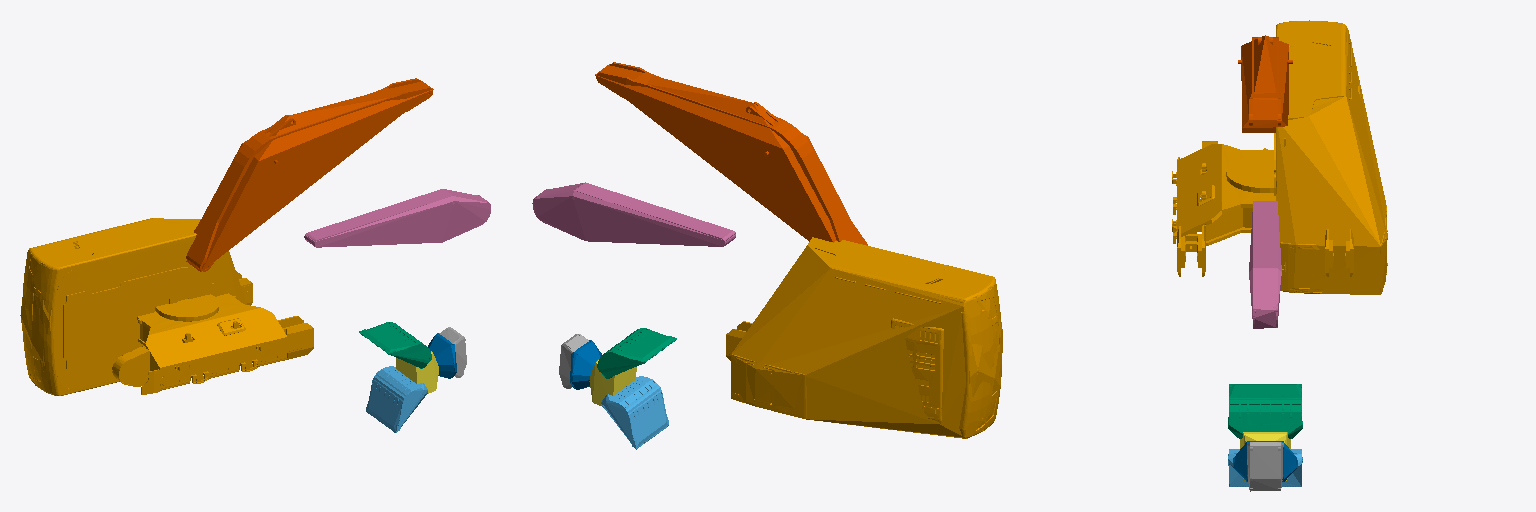
URDF robot description (excavator_urdf_ros2_ready):
<?xml version="1.0" encoding="UTF-8"?>
<robot name="excavator_urdf_ros2_ready">
  <joint name="gripper_to_tool" type="fixed">
    <origin xyz="0.047 -0. -0.019" rpy="0. 0. 0."/>
    <parent link="tool_body"/>
    <child link="gripper_mount"/>
  </joint>
  <joint name="revolute_carriage" type="revolute">
    <origin xyz="0. 0. 0." rpy="0. 0. 0."/>
    <parent link="excavator"/>
    <child link="upper_carriage"/>
    <axis xyz="0. 0. 1."/>
    <limit lower="-8.0285146" upper="8.0285146" effort="10000000." velocity="17453.2925199"/>
  </joint>
  <joint name="revolute_claw_1" type="revolute">
    <origin xyz="0. 0.025 -0.038" rpy="0. 0. -0."/>
    <parent link="gripper_frame"/>
    <child link="gripper_claw_1"/>
    <axis xyz="1. 0. 0."/>
    <limit lower="0." upper="0.8726646" effort="10000000." velocity="17453.2925199"/>
  </joint>
  <joint name="revolute_claw_2" type="revolute">
    <origin xyz="0. -0.025 -0.038" rpy="-0.0000005 0.0000001 0.0000001"/>
    <parent link="gripper_frame"/>
    <child link="gripper_claw_2"/>
    <axis xyz="1. 0. 0."/>
    <limit lower="-0.8726646" upper="0." effort="10000000." velocity="17453.2925199"/>
  </joint>
  <joint name="revolute_gripper" type="continuous">
    <origin xyz="-0.0105 0. -0.025 " rpy="0.0000004 -0. -1.5707964"/>
    <parent link="gripper_mount"/>
    <child link="gripper_frame"/>
    <axis xyz="0. 0. 1."/>
  </joint>
  <joint name="revolute_lift" type="revolute">
    <origin xyz="0.0165 0. 0.0785" rpy="0. -0.455181869 0."/>
    <parent link="upper_carriage"/>
    <child link="lift_boom"/>
    <axis xyz="0. 1. 0."/>
    <limit lower="-0.8726646" upper="0.5235988" effort="10000000." velocity="17453.2925199"/>
  </joint>
  <joint name="revolute_tilt" type="revolute">
    <origin xyz="0.42008 0. -0.20564" rpy="0. 0.455181869 0."/>
    <parent link="lift_boom"/>
    <child link="tilt_boom"/>
    <axis xyz="0. 1. 0."/>
    <limit lower="0.4886922" upper="2.5132741" effort="10000000." velocity="17453.2925199"/>
  </joint>
  <joint name="revolute_tool" type="revolute">
    <origin xyz="0.2499999 0. -0.0025 " rpy="0. 0. 0."/>
    <parent link="tilt_boom"/>
    <child link="tool_body"/>
    <axis xyz="0. 1. 0."/>
    <limit lower="-1.4835299" upper="1.2217305" effort="10000000." velocity="17453.2925199"/>
  </joint>
  <link name="excavator">
    <inertial>
      <origin xyz="0.0045939 -0.0001728 -0.0382546" rpy="0. 0. 0."/>
      <mass value="6.5"/>
      <inertia ixx="0.049442" ixy="0.0005321" ixz="0.0005431" iyy="0.0529756" iyz="-0.0000344" izz="0.0970931"/>
    </inertial>
    <visual>
      <origin xyz="0. 0. 0." rpy="-1.5707964 0. 0. "/>
      <geometry>
        <mesh filename="meshes/excavator_visuals_Mesh.obj" scale="1. 1. 1."/>
      </geometry>
    </visual>
    <visual>
      <origin xyz="0. 0. 0." rpy="-1.5707964 0. 0. "/>
      <geometry>
        <mesh filename="meshes/excavator_colliders_Mesh.obj" scale="1. 1. 1."/>
      </geometry>
    </visual>
    <collision>
      <origin xyz="0. 0. 0." rpy="-1.5707964 0. 0. "/>
      <geometry>
        <mesh filename="meshes/excavator_colliders_Mesh.obj" scale="1. 1. 1."/>
      </geometry>
    </collision>
  </link>
  <link name="gripper_claw_1">
    <inertial>
      <origin xyz="-0.00019 0.0062462 -0.0327046" rpy="0. 0. 0."/>
      <mass value="0.21596"/>
      <inertia ixx="0.0001736" ixy="-0.0000001" ixz="0.0000012" iyy="0.0003253" iyz="-0.0000481" izz="0.000232"/>
    </inertial>
    <visual>
      <origin xyz="0. 0. 0." rpy="-0. 0.6283185 -1.5707964"/>
      <geometry>
        <mesh filename="meshes/gripper_claw_1_visuals_Mesh.obj" scale="1. 1. 1."/>
      </geometry>
    </visual>
    <visual>
      <origin xyz="0. 0. 0." rpy="-0. 0.6283185 -1.5707964"/>
      <geometry>
        <mesh filename="meshes/gripper_claw_1_colliders_Mesh.obj" scale="1. 1. 1."/>
      </geometry>
    </visual>
    <collision>
      <origin xyz="0. 0. 0." rpy="-0. 0.6283185 -1.5707964"/>
      <geometry>
        <mesh filename="meshes/gripper_claw_1_colliders_Mesh.obj" scale="1. 1. 1."/>
      </geometry>
    </collision>
  </link>
  <link name="gripper_claw_2">
    <inertial>
      <origin xyz="0.00019 -0.0062462 -0.0327046" rpy="0. 0. 0."/>
      <mass value="0.21596"/>
      <inertia ixx="0.0001736" ixy="-0.0000001" ixz="-0.0000012" iyy="0.0003253" iyz="0.0000481" izz="0.000232"/>
    </inertial>
    <visual>
      <origin xyz="0. 0. 0." rpy="0. 0.6283185 1.5707964"/>
      <geometry>
        <mesh filename="meshes/gripper_claw_2_visuals_Mesh.obj" scale="1. 1. 1."/>
      </geometry>
    </visual>
    <visual>
      <origin xyz="0. 0. 0." rpy="0. 0.6283185 1.5707964"/>
      <geometry>
        <mesh filename="meshes/gripper_claw_2_colliders_Mesh.obj" scale="1. 1. 1."/>
      </geometry>
    </visual>
    <collision>
      <origin xyz="0. 0. 0." rpy="0. 0.6283185 1.5707964"/>
      <geometry>
        <mesh filename="meshes/gripper_claw_2_colliders_Mesh.obj" scale="1. 1. 1."/>
      </geometry>
    </collision>
  </link>
  <link name="gripper_frame">
    <inertial>
      <origin xyz="0. 0. -0.02261" rpy="0. 0. 0."/>
      <mass value="0.07586"/>
      <inertia ixx="0.0000321" ixy="0." ixz="0." iyy="0.0000572" iyz="0." izz="0.0000607"/>
    </inertial>
    <visual>
      <origin xyz="0. 0. 0." rpy="-0. -0. -0.0000001"/>
      <geometry>
        <mesh filename="meshes/gripper_frame_visuals_Mesh.obj" scale="1. 1. 1."/>
      </geometry>
    </visual>
    <visual>
      <origin xyz="0. 0. 0." rpy="-0. -0. -0.0000001"/>
      <geometry>
        <mesh filename="meshes/gripper_frame_colliders_Mesh.obj" scale="1. 1. 1."/>
      </geometry>
    </visual>
    <collision>
      <origin xyz="0. 0. 0." rpy="-0. -0. -0.0000001"/>
      <geometry>
        <mesh filename="meshes/gripper_frame_colliders_Mesh.obj" scale="1. 1. 1."/>
      </geometry>
    </collision>
  </link>
  <link name="gripper_mount">
    <inertial>
      <origin xyz="-0.01131 0. -0.01542" rpy="0. 0. 0."/>
      <mass value="0.06983"/>
      <inertia ixx="0.0000177" ixy="0." ixz="0.0000006" iyy="0.0000127" iyz="0." izz="0.0000198"/>
    </inertial>
    <visual>
      <origin xyz="0. 0. 0." rpy="0. 0. 0."/>
      <geometry>
        <mesh filename="meshes/gripper_mount_visuals_Mesh.obj" scale="1. 1. 1."/>
      </geometry>
    </visual>
    <visual>
      <origin xyz="0. 0. 0." rpy="0. 0. 0."/>
      <geometry>
        <mesh filename="meshes/gripper_mount_colliders_Mesh.obj" scale="1. 1. 1."/>
      </geometry>
    </visual>
    <collision>
      <origin xyz="0. 0. 0." rpy="0. 0. 0."/>
      <geometry>
        <mesh filename="meshes/gripper_mount_colliders_Mesh.obj" scale="1. 1. 1."/>
      </geometry>
    </collision>
  </link>
  <link name="lift_boom">
    <inertial>
      <origin xyz="0.199811 -0.000094 -0.044468" rpy="0. 0. 0."/>
      <mass value="1.15299"/>
      <inertia ixx="0.0049344" ixy="0.0000021" ixz="0.0072827" iyy="0.021352" iyz="0.0000036" izz="0.0167196"/>
    </inertial>
    <visual>
      <origin xyz="0. 0. 0." rpy="0. 0. 0."/>
      <geometry>
        <mesh filename="meshes/lift_boom_visuals_Mesh.obj" scale="1. 1. 1."/>
      </geometry>
    </visual>
    <visual>
      <origin xyz="0. 0. 0." rpy="0. 0. 0."/>
      <geometry>
        <mesh filename="meshes/lift_boom_colliders_Mesh.obj" scale="1. 1. 1."/>
      </geometry>
    </visual>
    <collision>
      <origin xyz="0. 0. 0." rpy="0. 0. 0."/>
      <geometry>
        <mesh filename="meshes/lift_boom_colliders_Mesh.obj" scale="1. 1. 1."/>
      </geometry>
    </collision>
  </link>
  <link name="tilt_boom">
    <inertial>
      <origin xyz="0.06505 -0.00005 0.01784" rpy="0. 0. 0."/>
      <mass value="0.77626"/>
      <inertia ixx="0.00036" ixy="0." ixz="0.000676" iyy="0.0060442" iyz="0." izz="0.005863"/>
    </inertial>
    <visual>
      <origin xyz="0. 0. 0." rpy="0. 0. 0."/>
      <geometry>
        <mesh filename="meshes/tilt_boom_visuals_Mesh.obj" scale="1. 1. 1."/>
      </geometry>
    </visual>
    <visual>
      <origin xyz="0. 0. 0." rpy="0. 0. 0."/>
      <geometry>
        <mesh filename="meshes/tilt_boom_colliders_Mesh.obj" scale="1. 1. 1."/>
      </geometry>
    </visual>
    <collision>
      <origin xyz="0. 0. 0." rpy="0. 0. 0."/>
      <geometry>
        <mesh filename="meshes/tilt_boom_colliders_Mesh.obj" scale="1. 1. 1."/>
      </geometry>
    </collision>
  </link>
  <link name="tool_body">
    <inertial>
      <origin xyz="0.0265998 0. -0.0101976" rpy="0. 0. 0."/>
      <mass value="0.137"/>
      <inertia ixx="0.0000403" ixy="0." ixz="0.0000048" iyy="0.0000601" iyz="0." izz="0.0000815"/>
    </inertial>
    <visual>
      <origin xyz="0. 0. 0." rpy="0. 0. 0."/>
      <geometry>
        <mesh filename="meshes/tool_body_visuals_Mesh.obj" scale="1. 1. 1."/>
      </geometry>
    </visual>
    <visual>
      <origin xyz="0. 0. 0." rpy="0. 0. 0."/>
      <geometry>
        <mesh filename="meshes/tool_body_colliders_Mesh.obj" scale="1. 1. 1."/>
      </geometry>
    </visual>
    <collision>
      <origin xyz="0. 0. 0." rpy="0. 0. 0."/>
      <geometry>
        <mesh filename="meshes/tool_body_colliders_Mesh.obj" scale="1. 1. 1."/>
      </geometry>
    </collision>
  </link>
  <link name="upper_carriage">
    <inertial>
      <origin xyz="-0.0821657 0.0013232 0.0460171" rpy="0. 0. 0."/>
      <mass value="8.1000004"/>
      <inertia ixx="0.0446463" ixy="-0.0058658" ixz="0.0002102" iyy="0.0700401" iyz="-0.0020342" izz="0.095637"/>
    </inertial>
    <visual>
      <origin xyz="0. 0. 0." rpy="-1.5707964 0. 0. "/>
      <geometry>
        <mesh filename="meshes/upper_carriage_visuals_Mesh.obj" scale="1. 1. 1."/>
      </geometry>
    </visual>
    <visual>
      <origin xyz="0. 0. 0." rpy="-1.5707964 0. 0. "/>
      <geometry>
        <mesh filename="meshes/upper_carriage_colliders_Mesh.obj" scale="1. 1. 1."/>
      </geometry>
    </visual>
    <collision>
      <origin xyz="0. 0. 0." rpy="-1.5707964 0. 0. "/>
      <geometry>
        <mesh filename="meshes/upper_carriage_colliders_Mesh.obj" scale="1. 1. 1."/>
      </geometry>
    </collision>
  </link>
</robot>

--- Facts derived from the render (not from the file) ---
Views: 3 orthographic renders of the robot side by side, from view 1: azimuth 30°, elevation 25°; view 2: azimuth 150°, elevation 25°; view 3: azimuth 270°, elevation 25°.
Robot: excavator_urdf_ros2_ready — 9 links, 8 joints (6 revolute, 1 continuous, 1 fixed); root link excavator; default pose: joints at zero except 1 at the middle of their limits (revolute_tilt = 1.5).
Links seen in each view (by area): view 1: upper_carriage, lift_boom, excavator, tilt_boom, gripper_claw_1, gripper_claw_2, gripper_mount, gripper_frame, tool_body; view 2: upper_carriage, lift_boom, tilt_boom, gripper_claw_1, gripper_claw_2, gripper_mount, gripper_frame, tool_body; view 3: upper_carriage, excavator, lift_boom, tilt_boom, gripper_claw_2, tool_body, gripper_mount, gripper_claw_1.
Link boxes in pixels (<box>): upper_carriage: <box>20,218,246,395</box>; lift_boom: <box>186,78,433,271</box>; excavator: <box>112,271,313,394</box>; tilt_boom: <box>304,189,490,247</box>; gripper_claw_1: <box>366,366,427,432</box>; gripper_claw_2: <box>359,322,431,368</box>; gripper_mount: <box>428,333,456,378</box>; gripper_frame: <box>396,351,438,393</box>; tool_body: <box>439,327,466,377</box>; upper_carriage: <box>731,237,1002,438</box>; lift_boom: <box>595,62,867,245</box>; tilt_boom: <box>532,182,735,246</box>; gripper_claw_1: <box>601,376,668,449</box>; gripper_claw_2: <box>597,328,676,378</box>; gripper_mount: <box>570,340,601,389</box>; gripper_frame: <box>589,359,636,405</box>; tool_body: <box>559,334,588,388</box>; upper_carriage: <box>1274,20,1387,294</box>; excavator: <box>1172,141,1353,276</box>; lift_boom: <box>1238,35,1292,132</box>; tilt_boom: <box>1249,201,1281,328</box>; gripper_claw_2: <box>1228,384,1302,438</box>; tool_body: <box>1247,442,1283,491</box>; gripper_mount: <box>1233,441,1297,481</box>; gripper_claw_1: <box>1228,449,1302,486</box>.
Size in the robot's own frame: 0.8137 by 0.289 by 0.5877 metres.
18 mesh visuals loaded from 18 distinct referenced files (18 OBJ).
